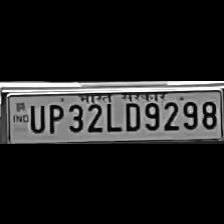2: (84, 98, 104, 132), (160, 96, 178, 130)
3: (64, 98, 84, 132)
8: (198, 96, 216, 130)
9: (179, 96, 199, 130), (140, 97, 160, 130)
D: (120, 96, 140, 132)
L: (104, 97, 120, 132)
P: (44, 99, 64, 133)
U: (27, 100, 46, 132)
